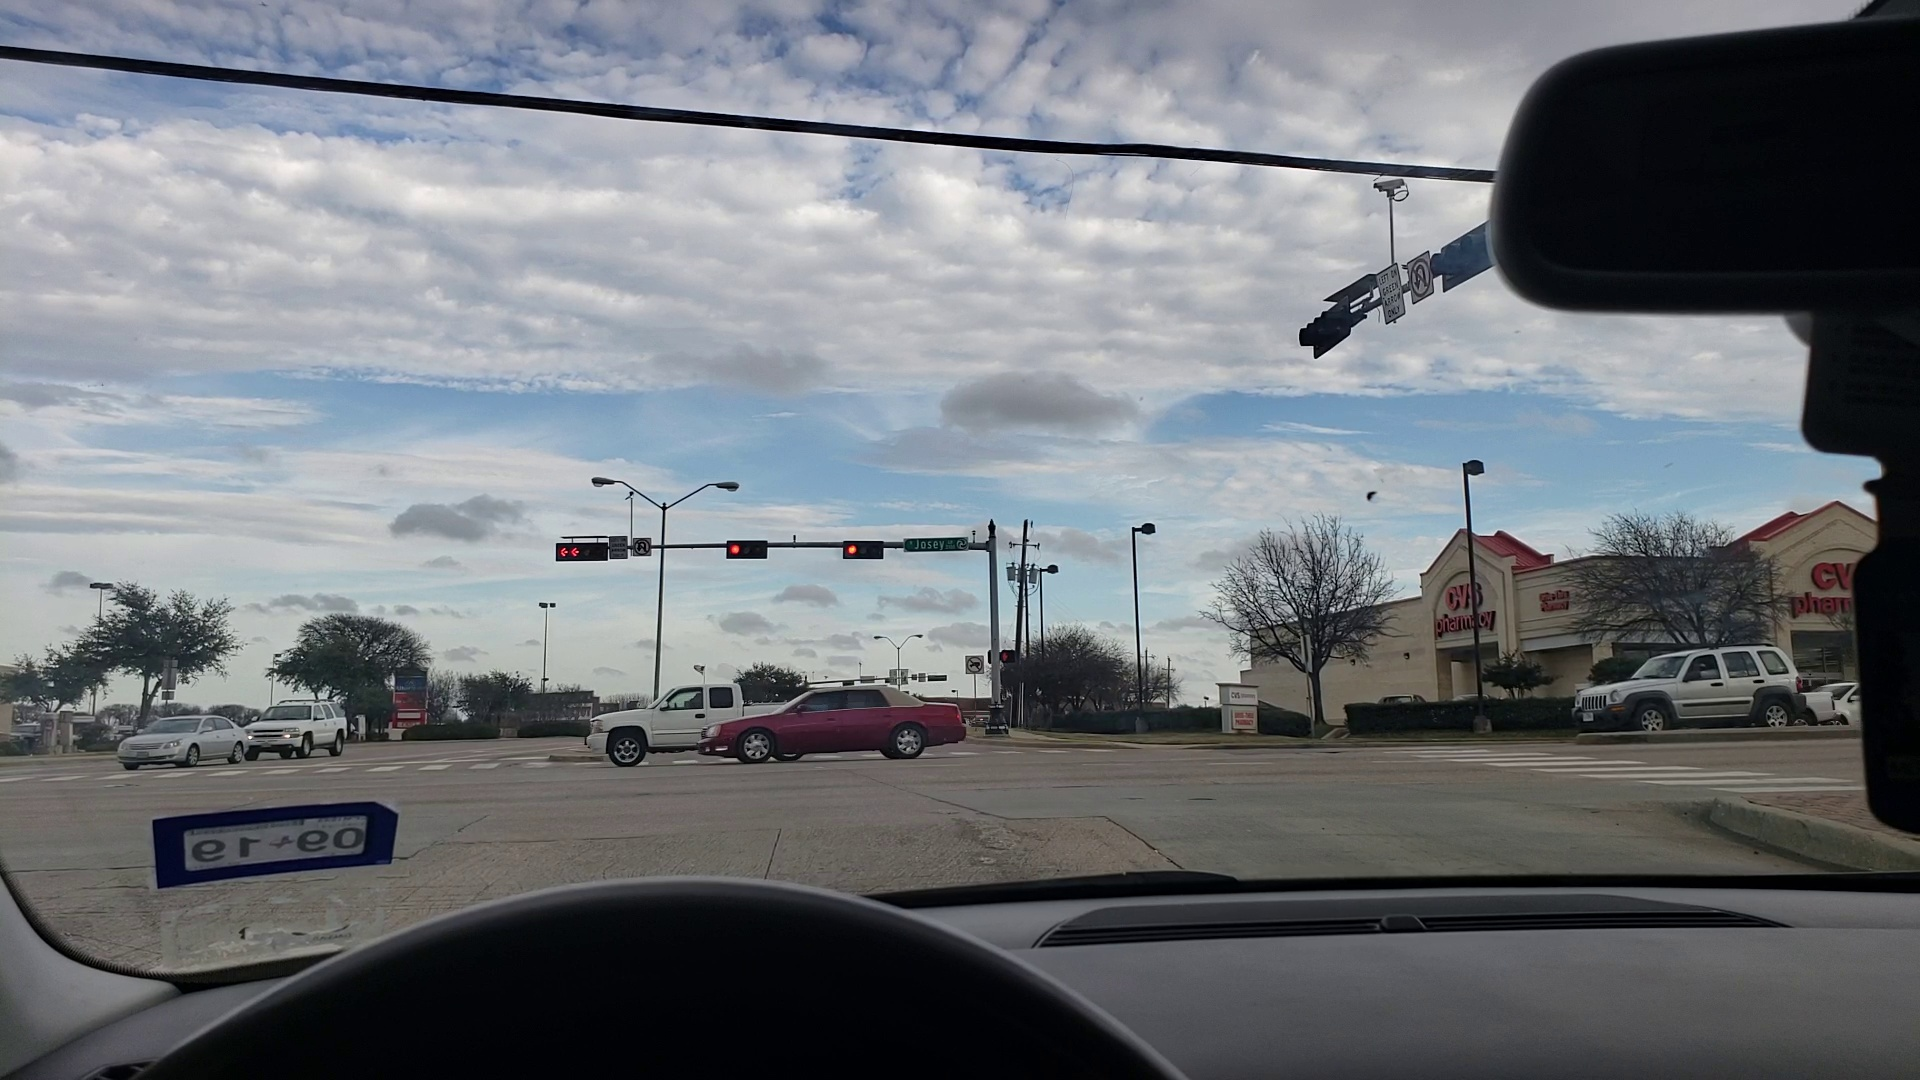car: (1573, 647, 1797, 732), (708, 688, 973, 758), (113, 712, 252, 770), (247, 702, 348, 757)
traffic light: (558, 538, 605, 559), (725, 541, 766, 559), (844, 541, 885, 558)
truck: (585, 670, 827, 761)
